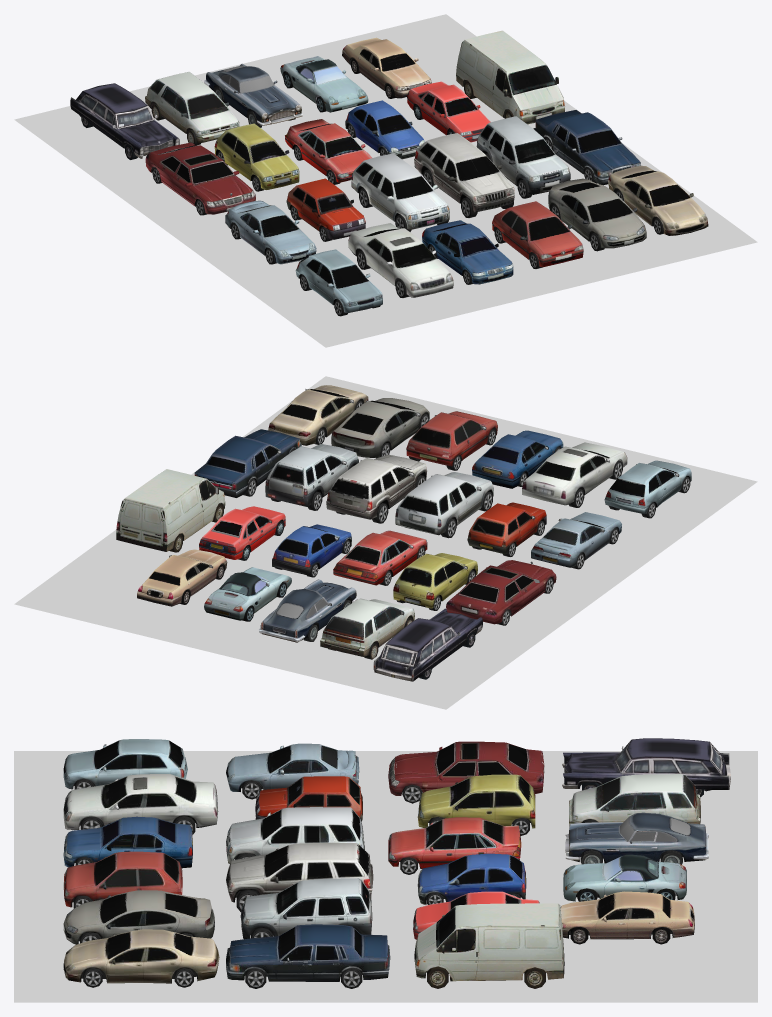
File: car low poly.fbx
3 renders of one model, top to bottom at view 1: azimuth 30°, elevation 25°; view 2: azimuth 150°, elevation 25°; view 3: azimuth 270°, elevation 25°, orthographic. The views are drawn at different scales.
Visible parts, largest first — view 1: Plane001, transit, G_Object_003, G_Object_025, G_Object_005, G_Object_016, Miller_Meteor, G_Object_010, G_Object_001, G_Object_023, Waggon_White_1_1, G_Object_021 (+12 smaller); view 2: Plane001, transit, Miller_Meteor, G_Object_003, G_Object_025, G_Object_005, G_Object_016, G_Object_023, G_Object_010, G_Object_001, Waggon_White_1_1, db4 (+12 smaller); view 3: Plane001, transit, G_Object_023, G_Object_021, G_Object_016, Miller_Meteor, G_Object_001, G_Object_010, G_Object_025, G_Object_003, db4, Waggon_White_1_1 (+14 smaller).
Boxes of the visible parts, x1,y1,x2,y2 form: Plane001: (14, 14, 757, 347); transit: (456, 30, 564, 124); G_Object_003: (414, 133, 514, 212); G_Object_025: (145, 142, 255, 214); G_Object_005: (351, 153, 449, 229); G_Object_016: (348, 223, 453, 297); Miller_Meteor: (70, 83, 179, 159); G_Object_010: (548, 178, 646, 248); G_Object_001: (476, 116, 570, 194); G_Object_023: (533, 110, 640, 185); Waggon_White_1_1: (145, 71, 239, 145); G_Object_021: (608, 165, 708, 235); Plane001: (14, 376, 757, 709); transit: (116, 469, 225, 551); Miller_Meteor: (373, 608, 482, 681); G_Object_003: (326, 454, 427, 519); G_Object_025: (446, 560, 556, 624); G_Object_005: (395, 472, 493, 535); G_Object_016: (522, 442, 627, 505); G_Object_023: (194, 429, 301, 497); G_Object_010: (331, 398, 429, 457); G_Object_001: (265, 444, 358, 506); Waggon_White_1_1: (320, 598, 414, 659); db4: (258, 579, 357, 642); Plane001: (14, 751, 757, 1002); transit: (414, 903, 564, 981); G_Object_023: (226, 924, 390, 981); G_Object_021: (63, 929, 219, 983); G_Object_016: (63, 774, 218, 829); Miller_Meteor: (562, 738, 730, 797); G_Object_001: (240, 878, 372, 939); G_Object_010: (63, 890, 214, 944); G_Object_025: (388, 741, 544, 795); G_Object_003: (226, 842, 373, 902); db4: (565, 812, 708, 863); Waggon_White_1_1: (569, 774, 700, 824).
Bounding box in the file's own units: 1503 × 176 × 1878.
